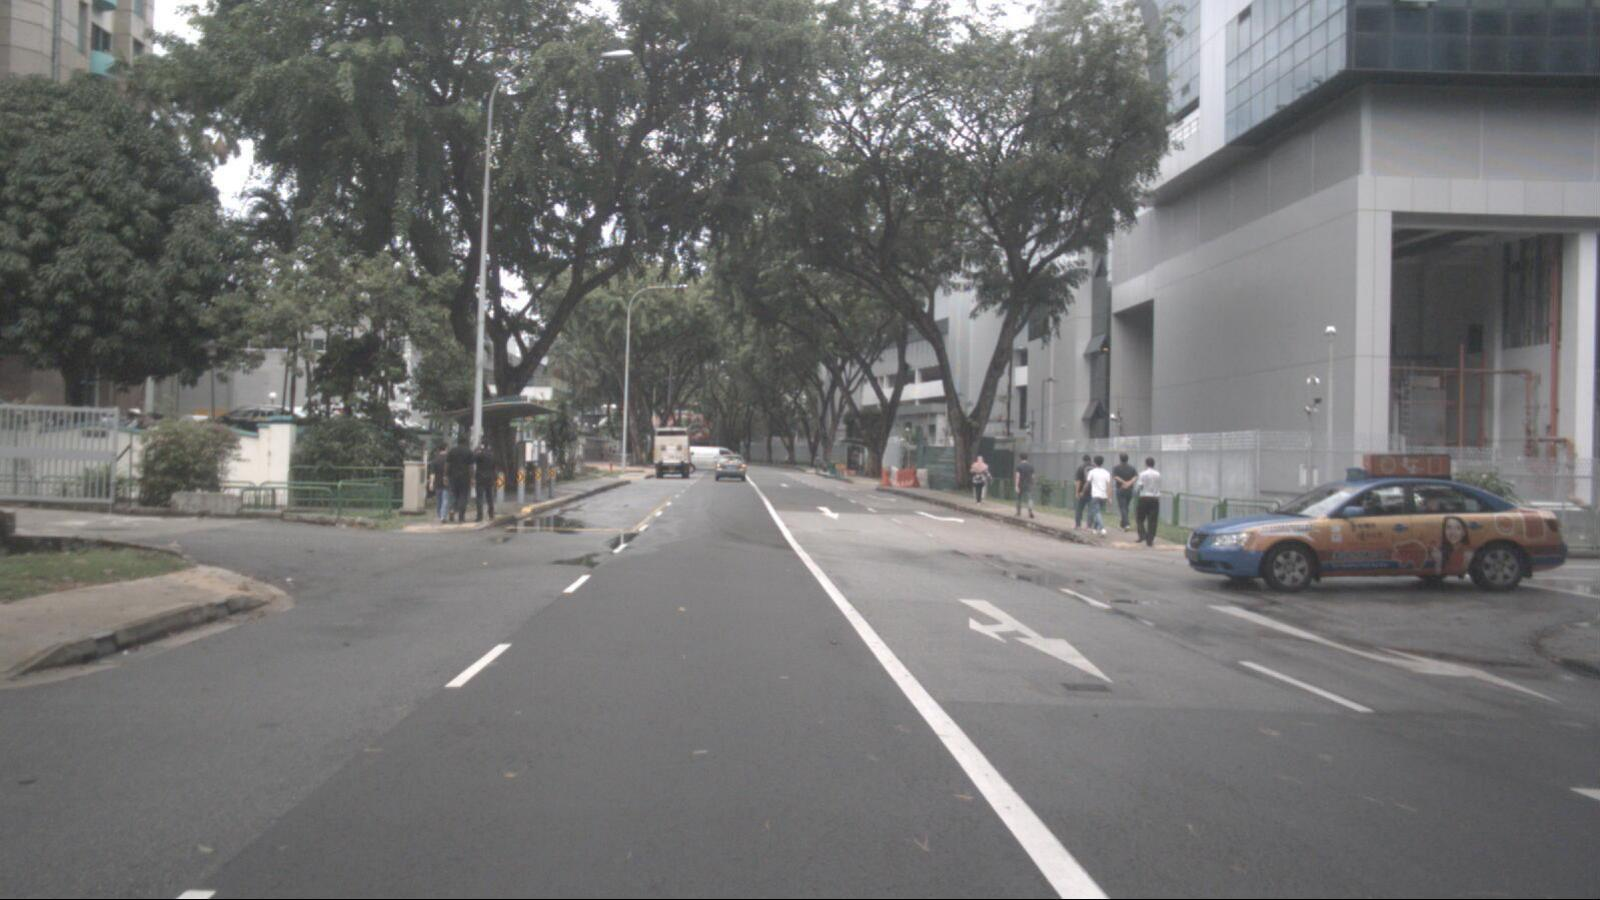human.pedestrian.adult-pedestrian.moving: (442, 436, 475, 525), (1078, 455, 1112, 538), (1132, 457, 1161, 548), (1109, 453, 1137, 533), (428, 443, 454, 525), (1071, 454, 1097, 532), (1012, 453, 1034, 520), (968, 456, 992, 506)
human.pedestrian.adult-pedestrian.standing: (470, 440, 495, 523)
